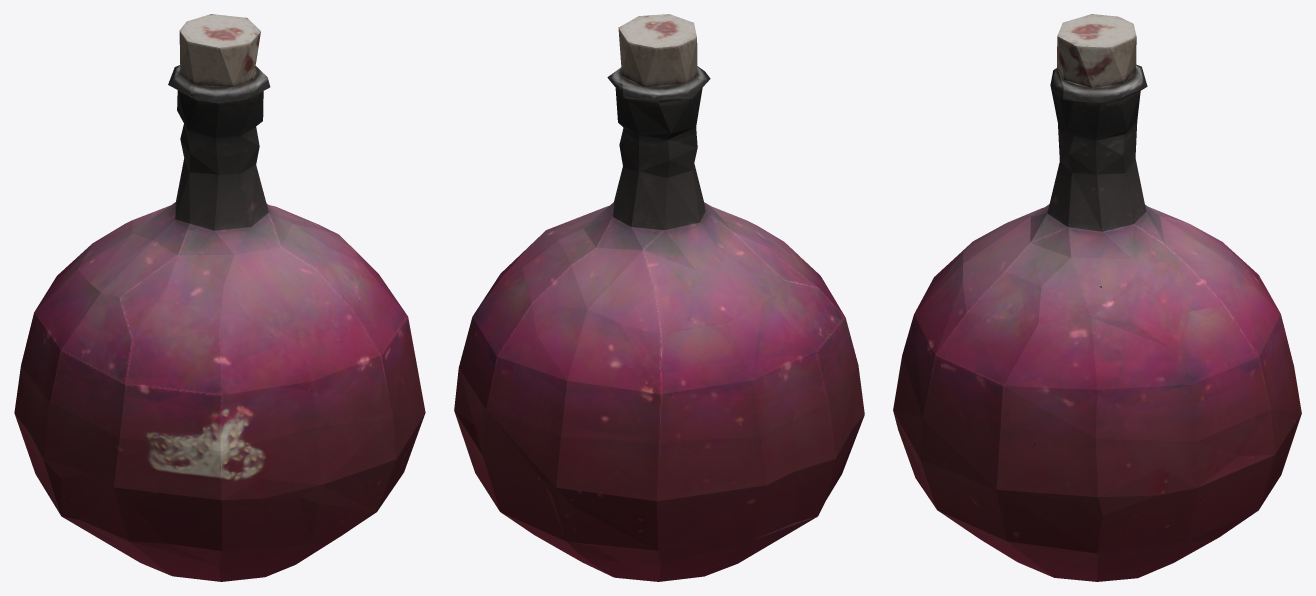
File: hello_world3.glb
3 renders of one model, left to right at view 1: azimuth 30°, elevation 25°; view 2: azimuth 150°, elevation 25°; view 3: azimuth 270°, elevation 25°, orthographic.
Parts seen in each view (by area): view 1: world; view 2: world; view 3: world.
Part boxes in pixels (box(x1,y1,x2,y2)): world: box(14, 14, 425, 581); world: box(454, 14, 864, 581); world: box(893, 14, 1301, 581).
Bounding box in the file's own units: 0.707 × 0.9865 × 0.7072.
Materials: 1 (1 with a texture image).
